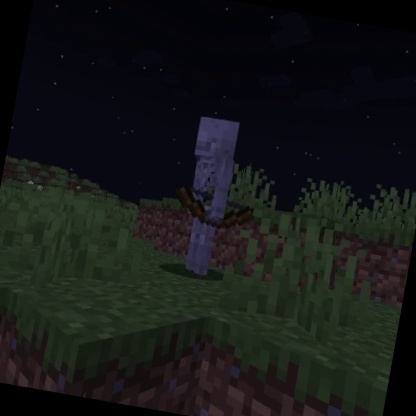skeleton: (157, 108, 272, 286)
